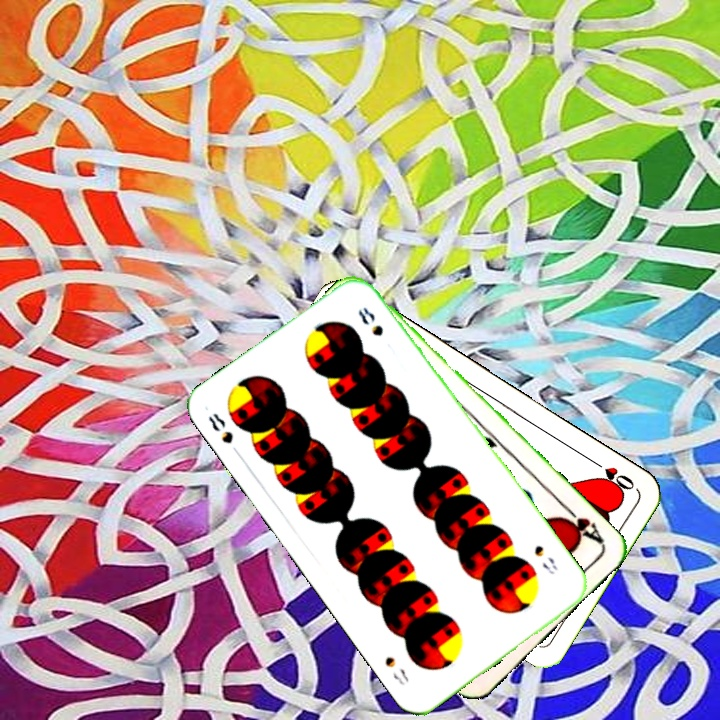HA: (555, 500, 607, 546)
HO: (585, 454, 638, 493)
S8: (204, 409, 244, 460), (530, 541, 561, 578)
